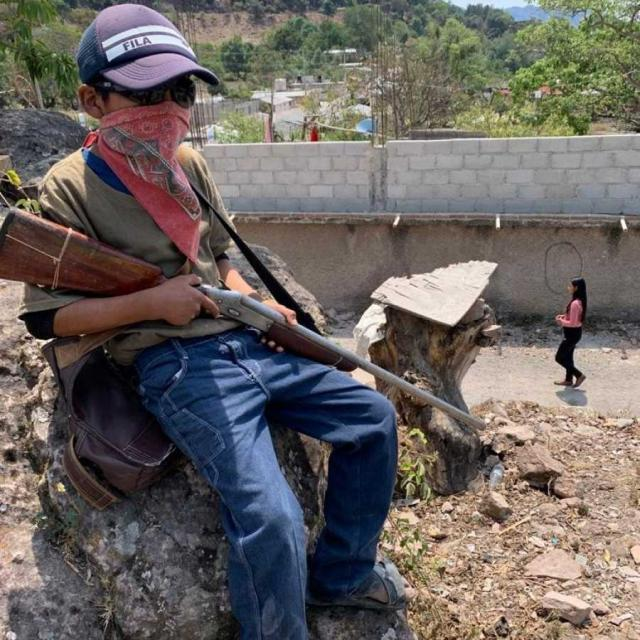weapon: (0, 206, 490, 432)
